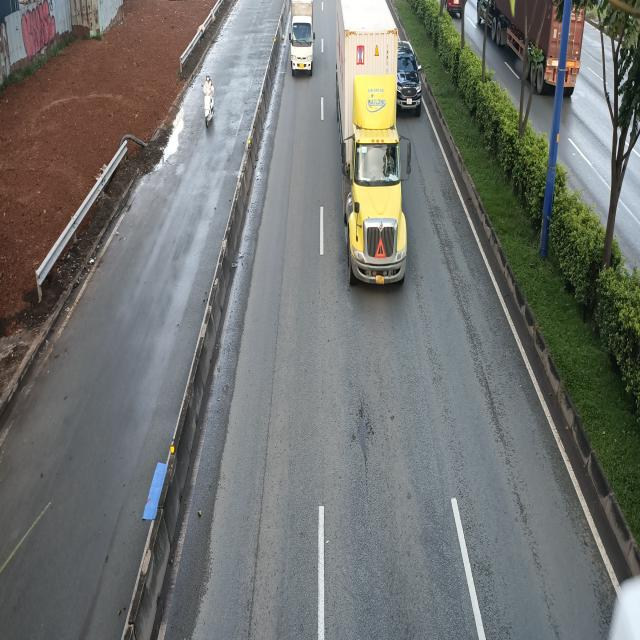car: (398, 41, 425, 117)
container: (336, 1, 411, 288)
truck: (288, 0, 315, 75)
